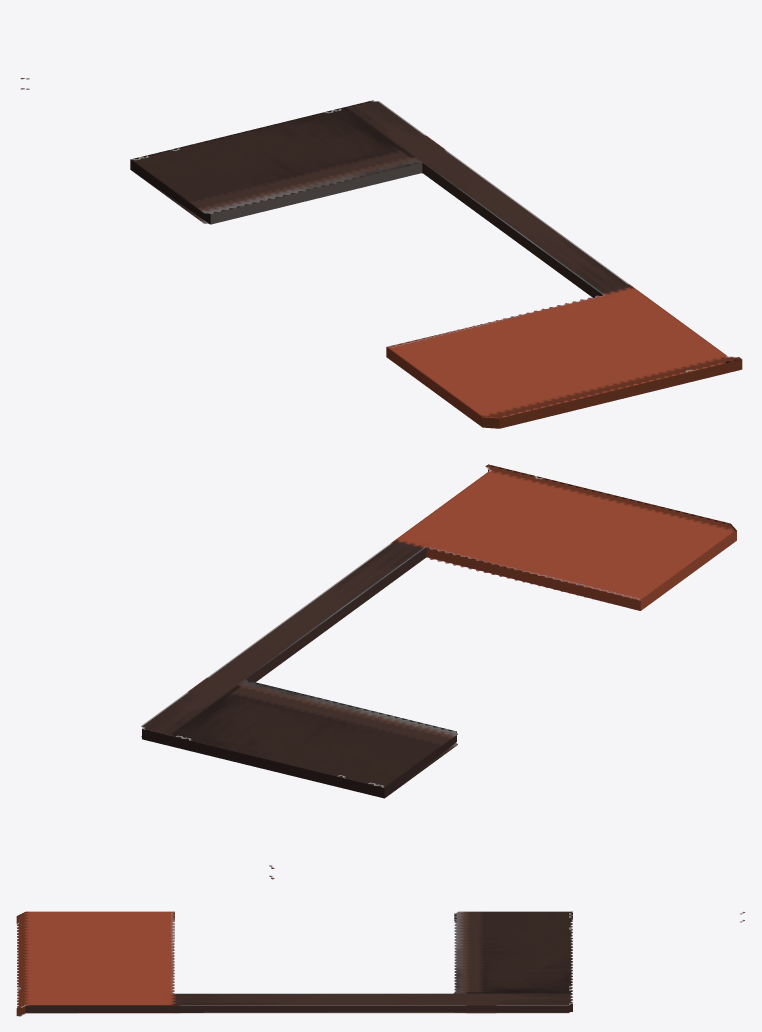
File: pz_native_location_restaurant_seahorse_01_18_frame.obj
3 views of the same model, one above another, from view 1: azimuth 30°, elevation 25°; view 2: azimuth 150°, elevation 25°; view 3: azimuth 270°, elevation 25° (orthographic). The views are drawn at different scales.
Parts seen in each view (by area): view 1: pz_native_location_restaurant_seahorse_01_18_frame; view 2: pz_native_location_restaurant_seahorse_01_18_frame; view 3: pz_native_location_restaurant_seahorse_01_18_frame.
Boxes of the visible parts, left/top/right/bottom form: pz_native_location_restaurant_seahorse_01_18_frame: left=20, top=78, right=742, bottom=428; pz_native_location_restaurant_seahorse_01_18_frame: left=141, top=464, right=736, bottom=879; pz_native_location_restaurant_seahorse_01_18_frame: left=16, top=911, right=744, bottom=1016.
Size of the model in its own units: 1.06 by 0.04 by 3.32.
Materials: 1 (1 with a texture image).
